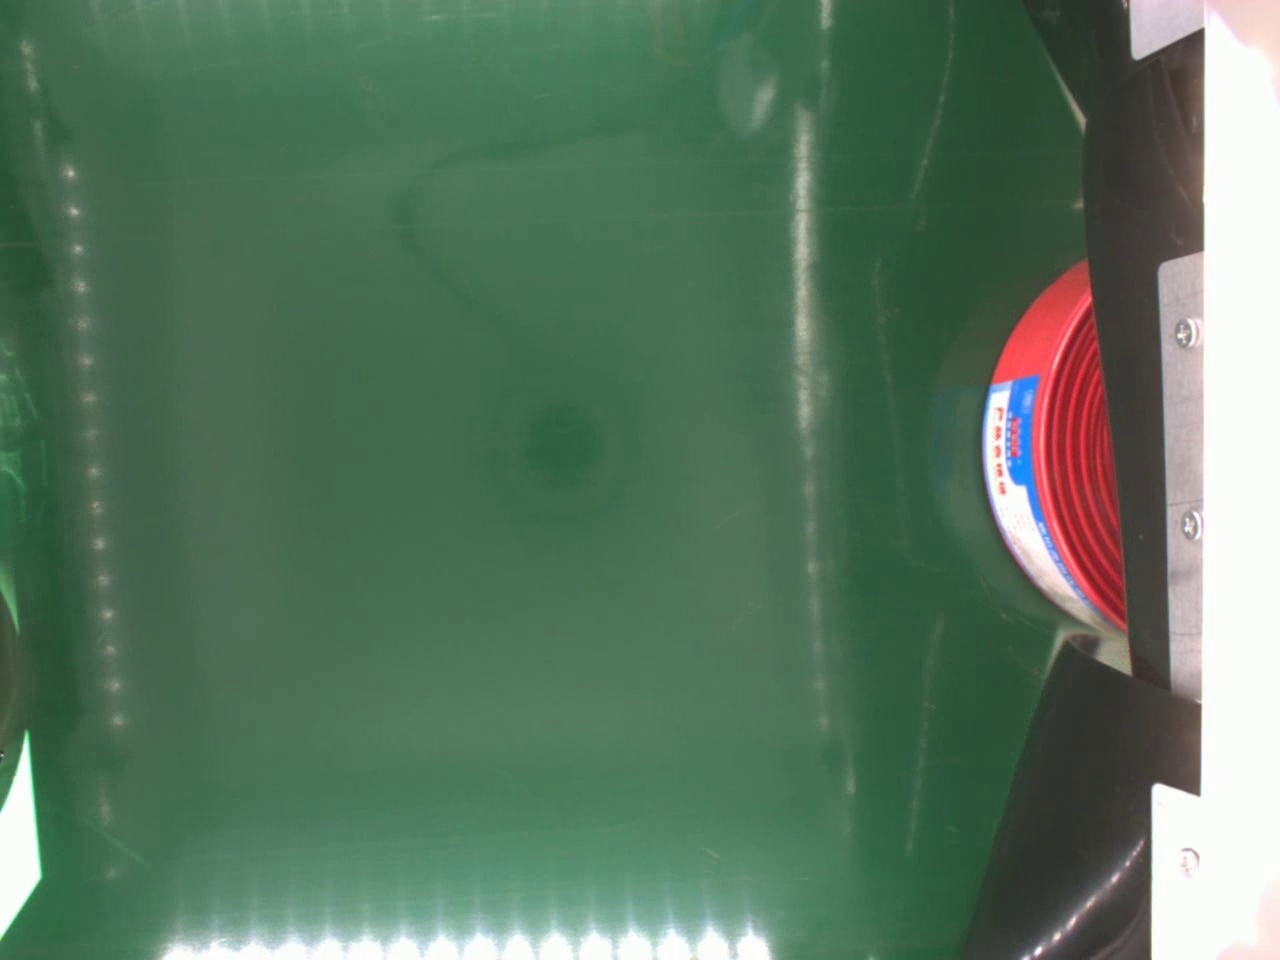red: (980, 252, 1125, 647)
